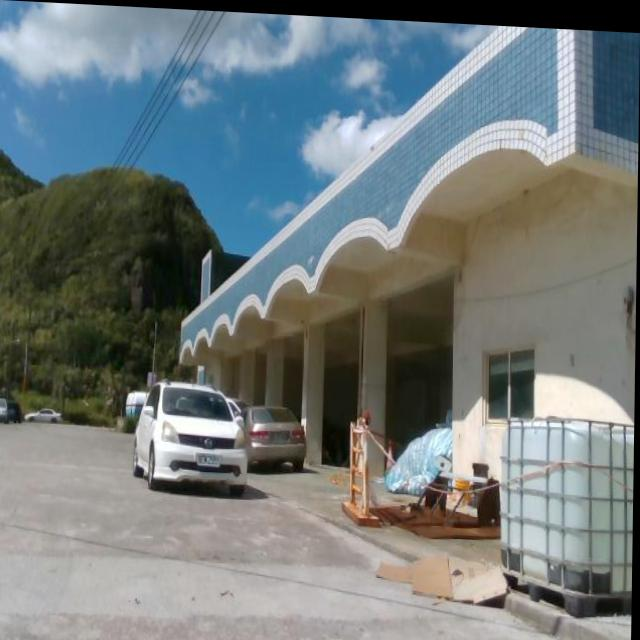pollute: (501, 411, 635, 614), (370, 463, 499, 538), (377, 547, 510, 602), (383, 415, 453, 493)
